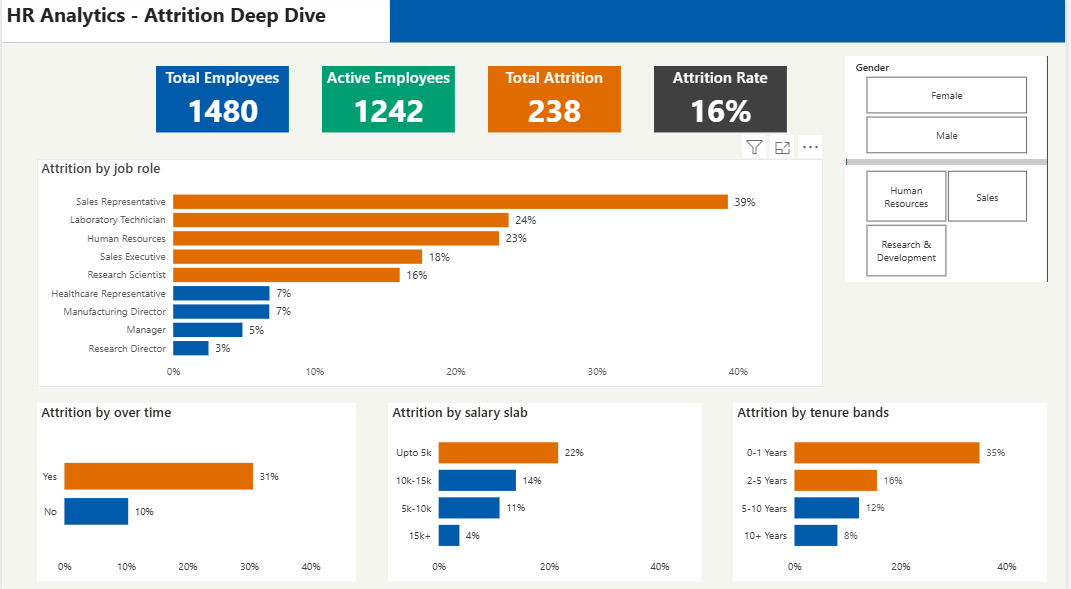

This screenshot's page, from the dashboard's own definition file:
{"tool":"powerbi","page":{"name":"Attrition Deep Dive","canvas":[1280,720],"ordinal":1},"visuals":[{"type":"shape","box":[1015.6,72.3,243.1,272],"z":0},{"type":"shape","box":[0,0,1280,56],"z":1000},{"type":"textbox","box":[0,0,466.7,56],"z":2000},{"type":"clusteredBarChart","title":"Attrition by job role","fields":{"Category":["HR_Analytics.Job Role"],"Y":["_Measures.Attrition Rate"]},"box":[42,195.8,946,274.6],"z":3000},{"type":"clusteredBarChart","title":"Attrition by over time","fields":{"Y":["_Measures.Attrition Rate"],"Category":["HR_Analytics.Over Time"]},"box":[42,490.1,383.6,215.5],"z":4000},{"type":"barChart","title":"Attrition by salary slab","fields":{"Y":["_Measures.Attrition Rate"],"Category":["HR_Analytics.Salary Slab"]},"box":[465.1,490.1,377.1,215.5],"z":5000},{"type":"clusteredBarChart","title":"Attrition by tenure bands","fields":{"Category":["HR_Analytics.Tenure Bands"],"Y":["_Measures.Attrition Rate"]},"box":[880.3,490.1,378.4,215.5],"z":6000},{"type":"slicer","fields":{"Values":["HR_Analytics.Department"]},"box":[1015.5,203.4,243.2,140.9],"z":7000},{"type":"card","title":"Total Employees","fields":{"Values":["_Measures.Total Employees"]},"box":[185.8,83.7,160,80],"z":8000},{"type":"card","title":"Active Employees","fields":{"Values":["_Measures.Active Employees"]},"box":[385.4,83.7,160,80],"z":9000},{"type":"card","title":"Total Attrition","fields":{"Values":["_Measures.Total Attrition"]},"box":[584.9,83.7,160,80],"z":10000},{"type":"card","title":"Attrition Rate","fields":{"Values":["_Measures.Attrition Rate"]},"box":[784.5,83.7,160,80],"z":11000},{"type":"slicer","fields":{"Values":["HR_Analytics.Gender"]},"box":[1015.5,71.8,243.2,123.6],"z":12000}]}

Visuals, with their boxes in screenshot pixels (x1, y1, x2, y2), scaled from the page's 1280x720 canvas onto the 1071x589 screenshot:
shape: locate(850, 59, 1053, 282)
shape: locate(0, 0, 1070, 46)
textbox: locate(0, 0, 390, 46)
"Attrition by job role" clusteredBarChart: locate(35, 160, 827, 385)
"Attrition by over time" clusteredBarChart: locate(35, 401, 356, 577)
"Attrition by salary slab" barChart: locate(389, 401, 705, 577)
"Attrition by tenure bands" clusteredBarChart: locate(737, 401, 1053, 577)
slicer - HR_Analytics.Department: locate(850, 166, 1053, 282)
"Total Employees" card: locate(155, 68, 289, 134)
"Active Employees" card: locate(322, 68, 456, 134)
"Total Attrition" card: locate(489, 68, 623, 134)
"Attrition Rate" card: locate(656, 68, 790, 134)
slicer - HR_Analytics.Gender: locate(850, 59, 1053, 160)
